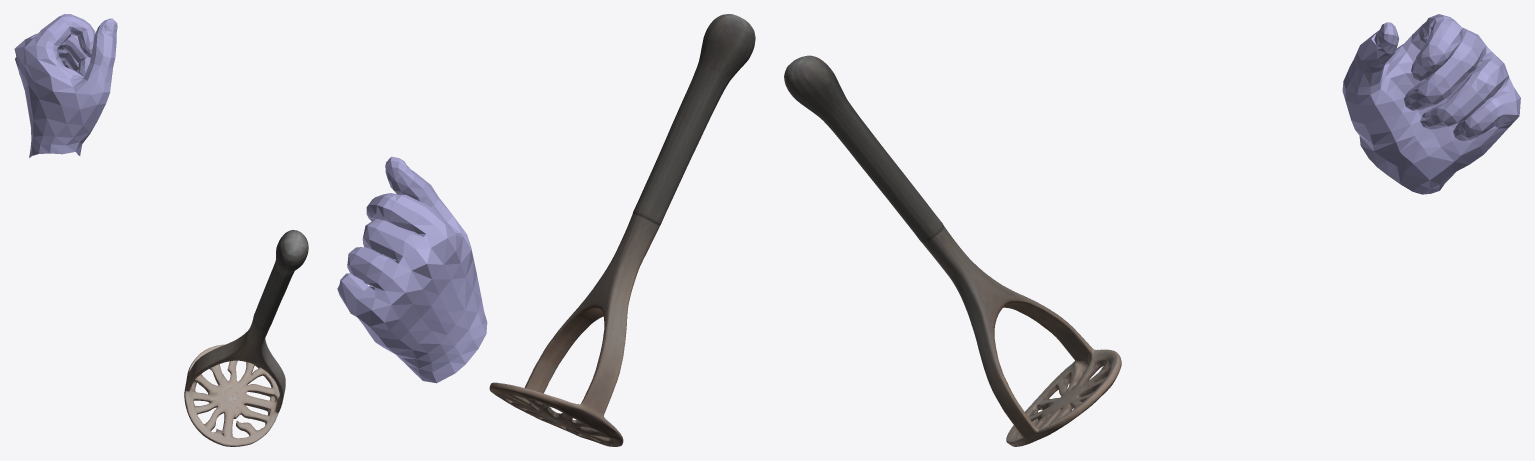
The model's file is frame_0011_source_000011_hand_object.glb.
3 renders of one model, left to right at view 1: azimuth 30°, elevation 25°; view 2: azimuth 150°, elevation 25°; view 3: azimuth 270°, elevation 25°, orthographic. The views are drawn at different scales.
Parts seen in each view (by area): view 1: world; view 2: world; view 3: world.
Boxes of the visible parts, box(x1,y1,x2,y2) form: world: box(14, 14, 308, 446); world: box(337, 14, 755, 446); world: box(784, 14, 1520, 446).
Size of the model in its own units: 0.0983 by 0.2611 by 0.4145.
